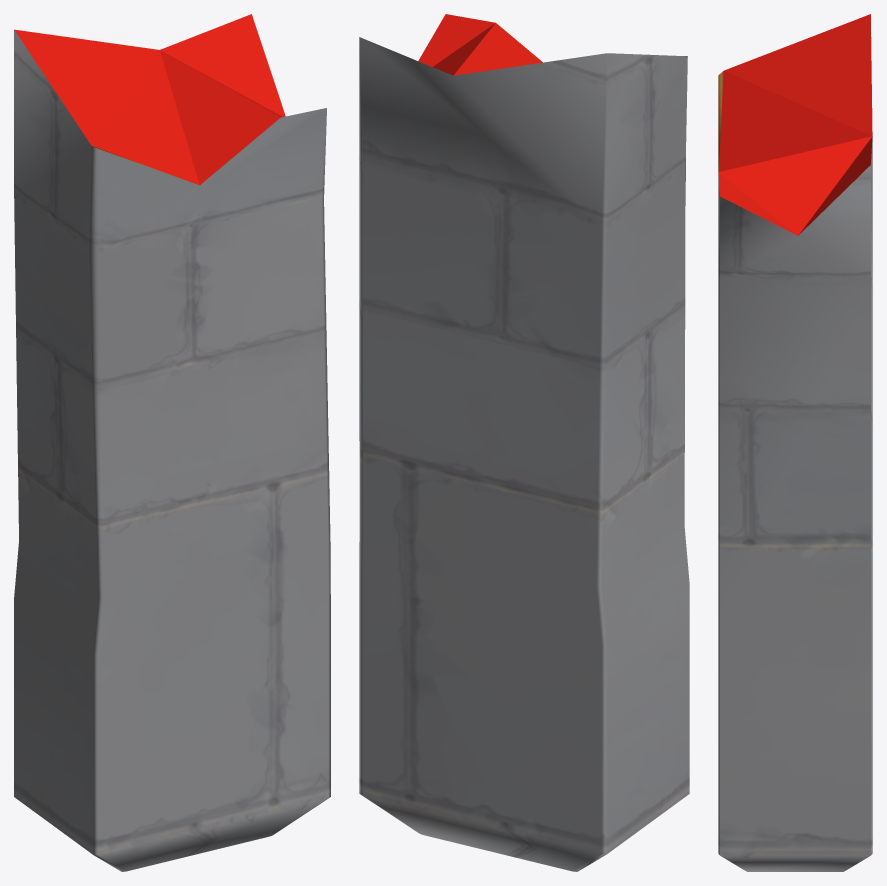
Rendered from SM_SmallArch_Broken.fbx.
3 views of the same model, side by side, from view 1: azimuth 30°, elevation 25°; view 2: azimuth 150°, elevation 25°; view 3: azimuth 270°, elevation 25° (orthographic). The views are drawn at different scales.
Parts seen in each view (by area): view 1: SM_SmallArch_Broken; view 2: SM_SmallArch_Broken; view 3: SM_SmallArch_Broken.
Boxes of the visible parts, x1,y1,x2,y2 form: SM_SmallArch_Broken: [14, 14, 330, 871]; SM_SmallArch_Broken: [359, 14, 689, 871]; SM_SmallArch_Broken: [718, 14, 872, 871].
Bounding box in the file's own units: 0.6222 × 2.02 × 0.3668.
